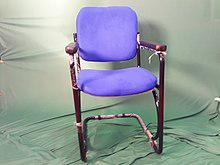chair: (55, 3, 186, 163)
